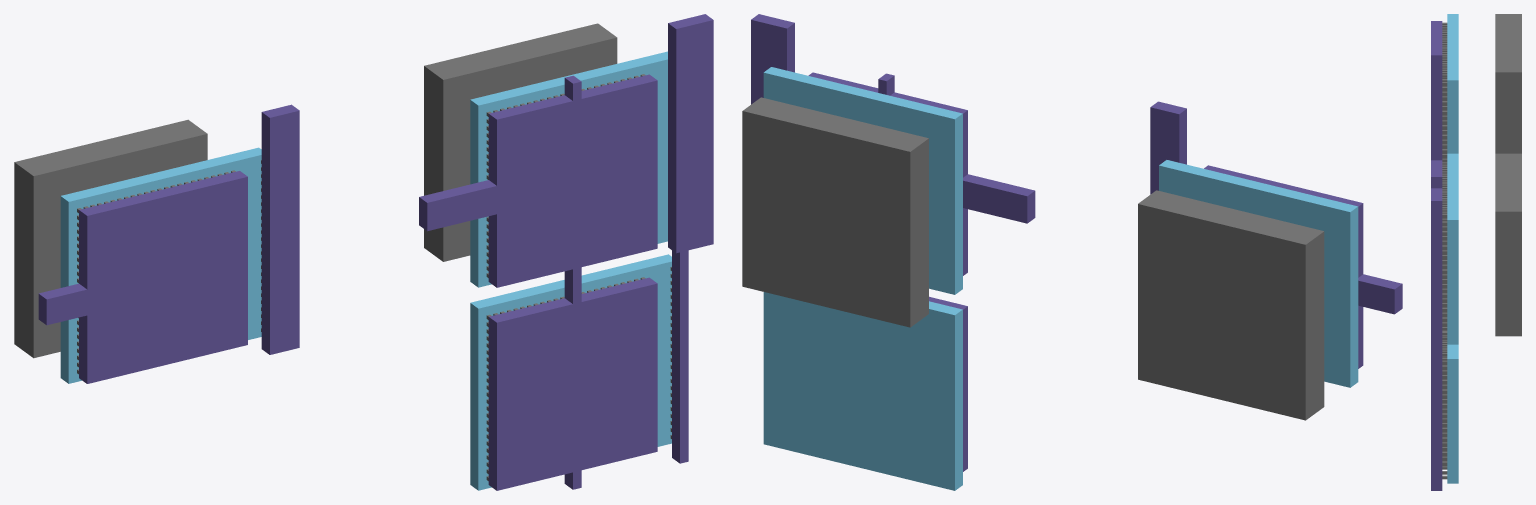
File: caps.gds.gltf
3 renders of one model, left to right at view 1: azimuth 30°, elevation 25°; view 2: azimuth 150°, elevation 25°; view 3: azimuth 270°, elevation 25°, orthographic. The views are drawn at different scales.
Parts seen in each view (by area): view 1: sky130_fd_pr__cap_mim_m3_1_4DGTN9_met4, sky130_fd_pr__cap_mim_m3_1_4PHTN9_met4, caps_met4, sky130_fd_pr__cap_mim_m3_1_4DGTN9_met3, sky130_fd_pr__cap_mim_m3_1_4PHTN9_substrate, sky130_fd_pr__cap_mim_m3_1_4DGTN9_substrate, sky130_fd_pr__cap_mim_m3_1_4PHTN9_met3, sky130_fd_pr__cap_mim_m3_1_4DGTN9_via3; view 2: sky130_fd_pr__cap_mim_m3_1_4DGTN9_met3, sky130_fd_pr__cap_mim_m3_1_4DGTN9_substrate, sky130_fd_pr__cap_mim_m3_1_4PHTN9_substrate, sky130_fd_pr__cap_mim_m3_1_4PHTN9_met3, caps_met4, sky130_fd_pr__cap_mim_m3_1_4DGTN9_met4, sky130_fd_pr__cap_mim_m3_1_4PHTN9_met4; view 3: sky130_fd_pr__cap_mim_m3_1_4DGTN9_substrate, sky130_fd_pr__cap_mim_m3_1_4DGTN9_met3, sky130_fd_pr__cap_mim_m3_1_4PHTN9_substrate, caps_met4, sky130_fd_pr__cap_mim_m3_1_4DGTN9_met4, sky130_fd_pr__cap_mim_m3_1_4DGTN9_via3, sky130_fd_pr__cap_mim_m3_1_4PHTN9_met3, sky130_fd_pr__cap_mim_m3_1_4PHTN9_via3, sky130_fd_pr__cap_mim_m3_1_4PHTN9_met4.
Boxes of the visible parts, x1,y1,x2,y2 form: sky130_fd_pr__cap_mim_m3_1_4DGTN9_met4: [488, 74, 688, 490]; sky130_fd_pr__cap_mim_m3_1_4PHTN9_met4: [79, 163, 278, 383]; caps_met4: [38, 14, 713, 354]; sky130_fd_pr__cap_mim_m3_1_4DGTN9_met3: [470, 51, 671, 490]; sky130_fd_pr__cap_mim_m3_1_4PHTN9_substrate: [14, 119, 207, 358]; sky130_fd_pr__cap_mim_m3_1_4DGTN9_substrate: [424, 23, 617, 261]; sky130_fd_pr__cap_mim_m3_1_4PHTN9_met3: [60, 147, 261, 383]; sky130_fd_pr__cap_mim_m3_1_4DGTN9_via3: [486, 74, 671, 480]; sky130_fd_pr__cap_mim_m3_1_4DGTN9_met3: [763, 67, 962, 490]; sky130_fd_pr__cap_mim_m3_1_4DGTN9_substrate: [742, 97, 928, 327]; sky130_fd_pr__cap_mim_m3_1_4PHTN9_substrate: [1138, 190, 1324, 420]; sky130_fd_pr__cap_mim_m3_1_4PHTN9_met3: [1159, 160, 1358, 387]; caps_met4: [751, 14, 1402, 314]; sky130_fd_pr__cap_mim_m3_1_4DGTN9_met4: [775, 54, 967, 471]; sky130_fd_pr__cap_mim_m3_1_4PHTN9_met4: [1170, 158, 1363, 368]; sky130_fd_pr__cap_mim_m3_1_4DGTN9_substrate: [1495, 153, 1521, 336]; sky130_fd_pr__cap_mim_m3_1_4DGTN9_met3: [1447, 153, 1458, 483]; sky130_fd_pr__cap_mim_m3_1_4PHTN9_substrate: [1495, 14, 1521, 153]; caps_met4: [1431, 45, 1442, 354]; sky130_fd_pr__cap_mim_m3_1_4DGTN9_met4: [1431, 160, 1442, 490]; sky130_fd_pr__cap_mim_m3_1_4DGTN9_via3: [1442, 162, 1447, 479]; sky130_fd_pr__cap_mim_m3_1_4PHTN9_met3: [1447, 14, 1458, 153]; sky130_fd_pr__cap_mim_m3_1_4PHTN9_via3: [1442, 22, 1447, 162]; sky130_fd_pr__cap_mim_m3_1_4PHTN9_met4: [1431, 21, 1442, 45].
Bounding box in the file's own units: 39.87 × 25.47 × 6.87.
